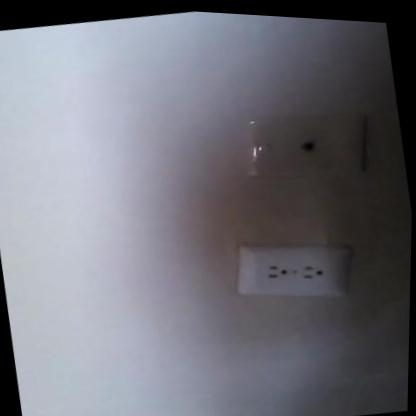OUTLET: (227, 228, 353, 315)
